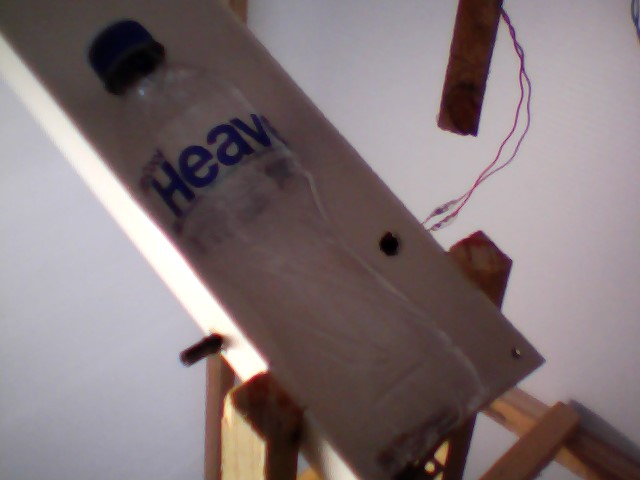plastico: (83, 10, 499, 480)
